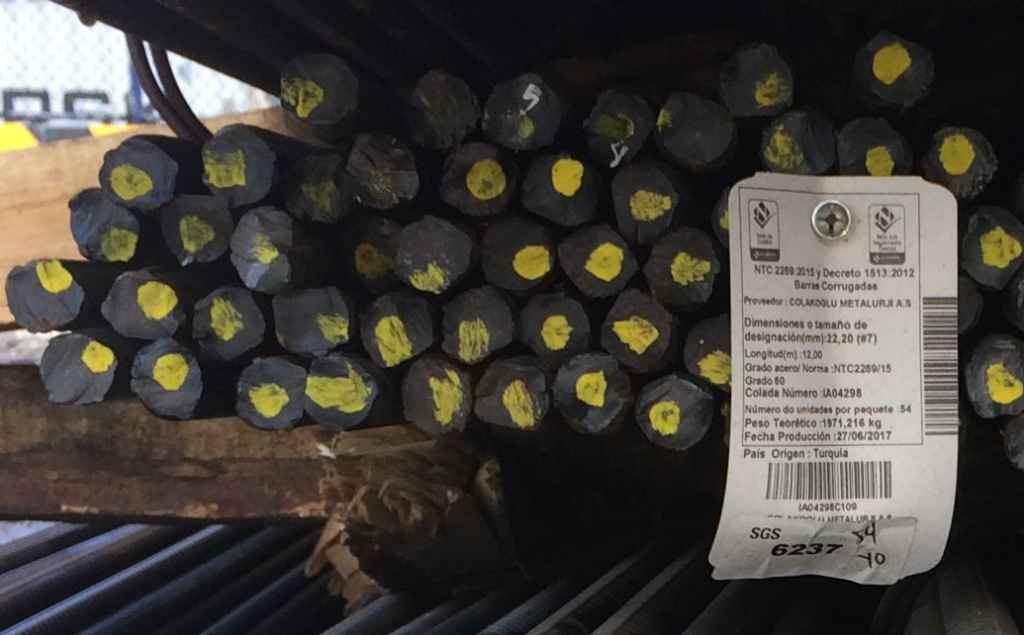dipstick: (851, 29, 945, 118), (336, 131, 429, 218), (549, 356, 632, 438), (596, 291, 678, 373), (645, 228, 720, 315), (920, 125, 1005, 201), (634, 374, 714, 453), (657, 86, 735, 167), (515, 291, 598, 366), (488, 70, 566, 149), (396, 212, 474, 290), (559, 222, 639, 298), (440, 143, 522, 217), (133, 338, 211, 415), (201, 123, 276, 203), (275, 51, 359, 122), (520, 152, 600, 226), (401, 355, 474, 436), (62, 186, 139, 262), (156, 191, 233, 267), (359, 290, 433, 369), (102, 270, 185, 340), (474, 356, 551, 431), (271, 286, 353, 356), (610, 166, 686, 241), (305, 355, 383, 428), (6, 261, 85, 333), (583, 83, 655, 162), (278, 151, 348, 231), (99, 135, 179, 204), (240, 355, 313, 430), (413, 71, 486, 146), (190, 284, 268, 354), (55, 332, 119, 416), (439, 293, 517, 361), (485, 213, 556, 287), (722, 43, 795, 114), (233, 207, 292, 293), (761, 110, 837, 176), (838, 116, 918, 177), (967, 336, 1017, 427), (963, 205, 1016, 290), (330, 225, 396, 290), (687, 320, 730, 391)
